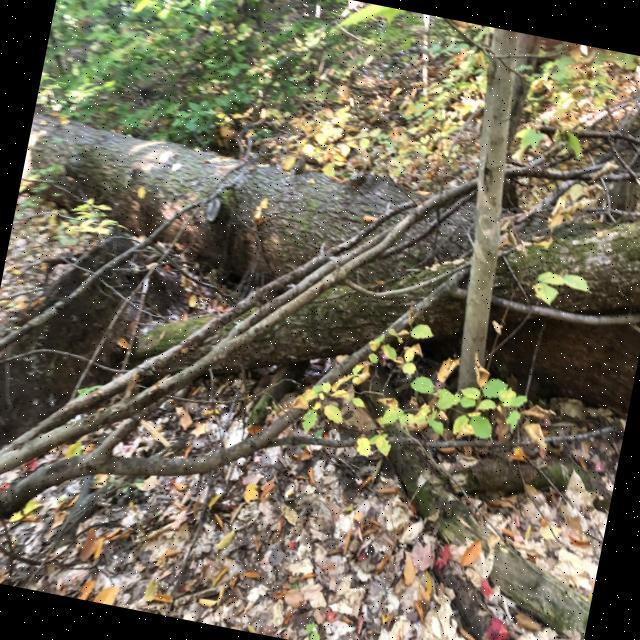fallen_object: (130, 129, 640, 466), (9, 95, 640, 362)
